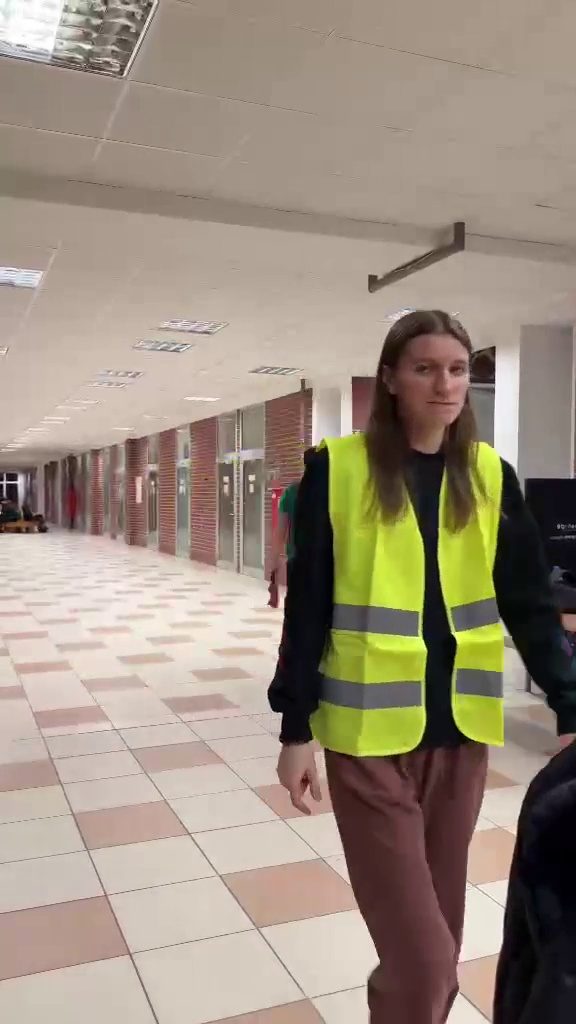vest: (276, 318, 559, 989)
